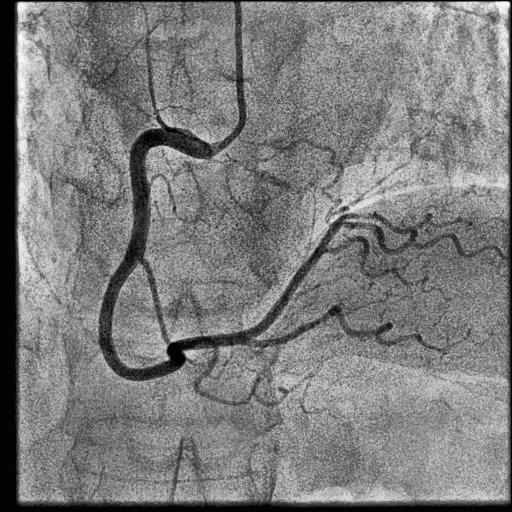pborca: (248, 212, 413, 339)
pda: (250, 304, 440, 351)
rca: (99, 127, 255, 381)
